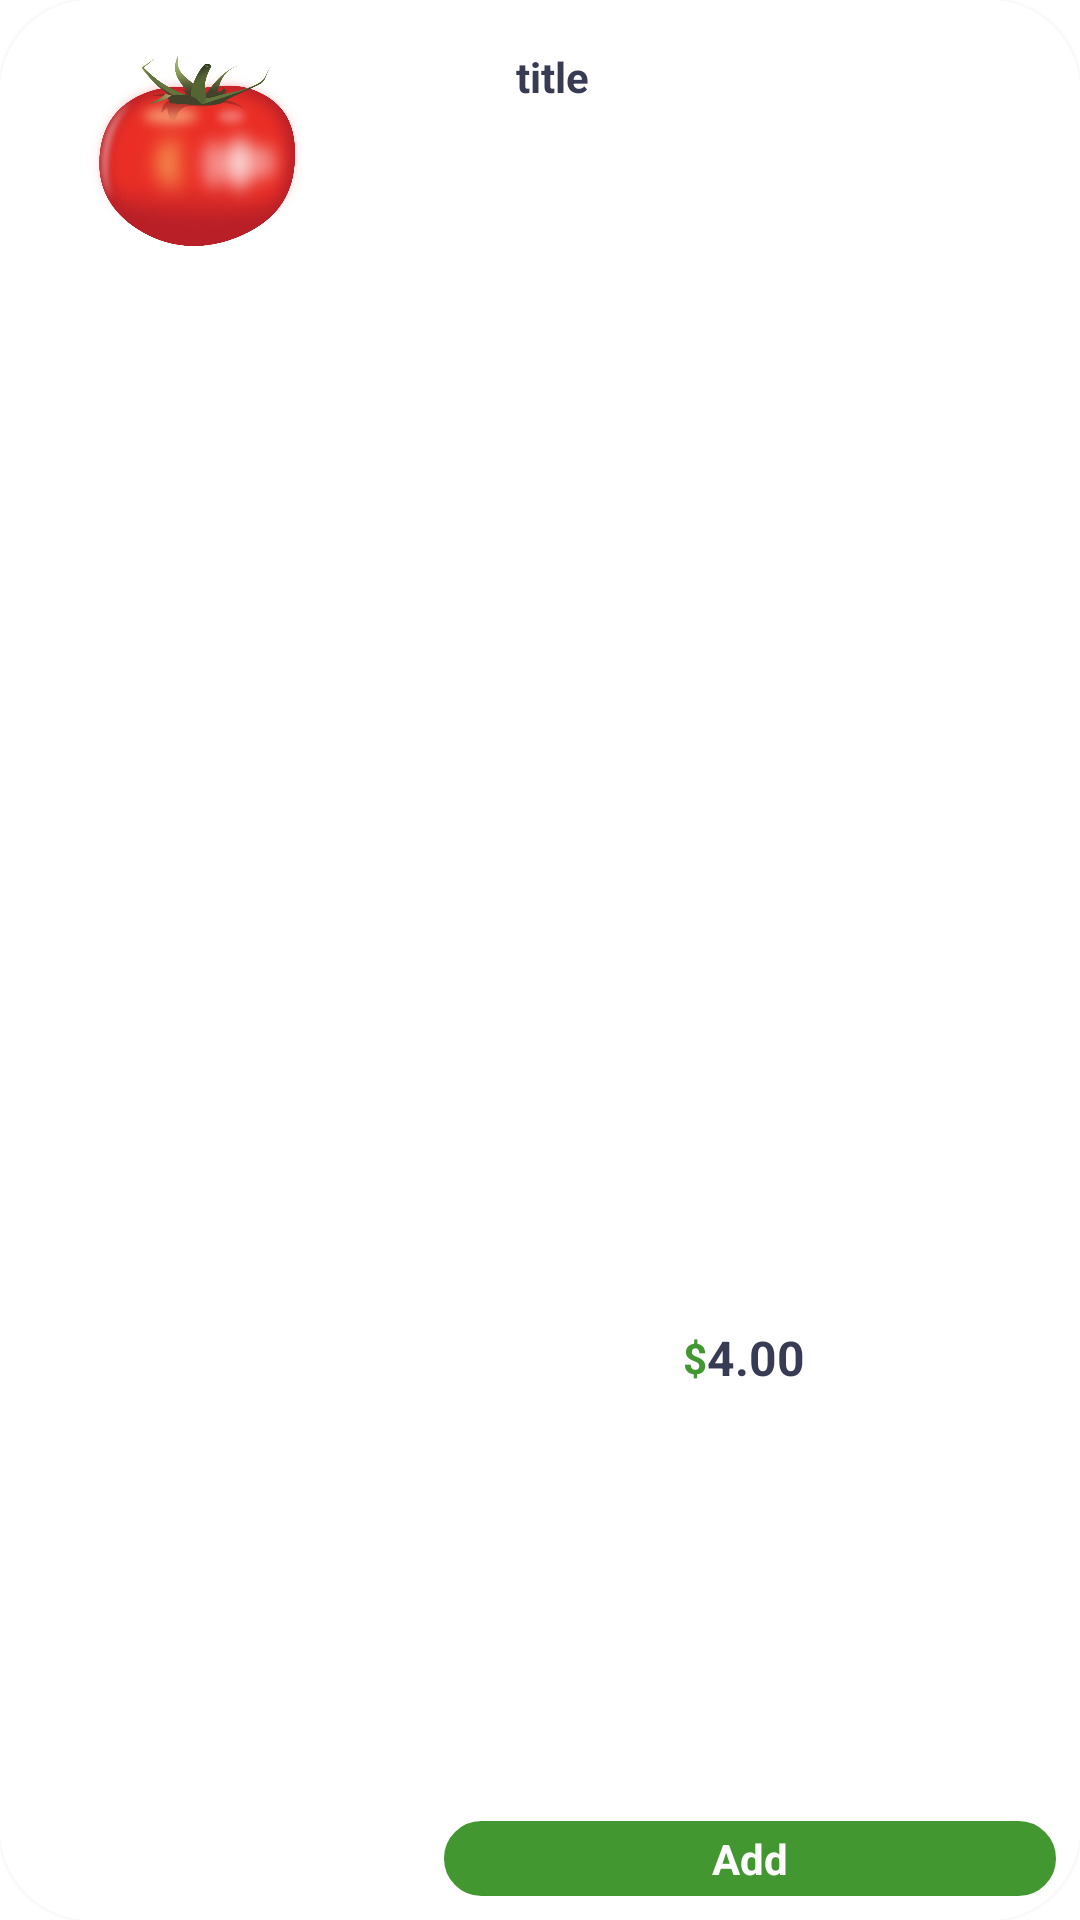

Locate icon controls on the screen. Image size 1080 x 1920, boxes as (left=x1, top=y1, right=x2, bottom=y2).
tomato: (left=99, top=56, right=295, bottom=246)
